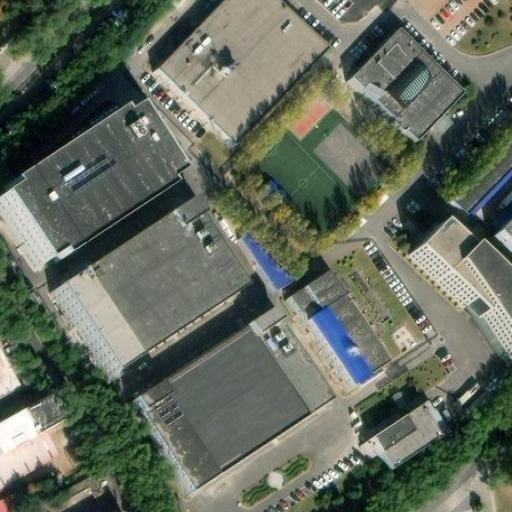building: (123, 314, 326, 499), (52, 204, 244, 378), (2, 112, 175, 262), (154, 0, 324, 148), (409, 225, 512, 358), (282, 278, 383, 397), (349, 33, 458, 141), (447, 123, 512, 237), (368, 404, 441, 470), (0, 433, 64, 497), (246, 228, 294, 291), (36, 467, 100, 512), (25, 394, 68, 437), (0, 341, 20, 395)
